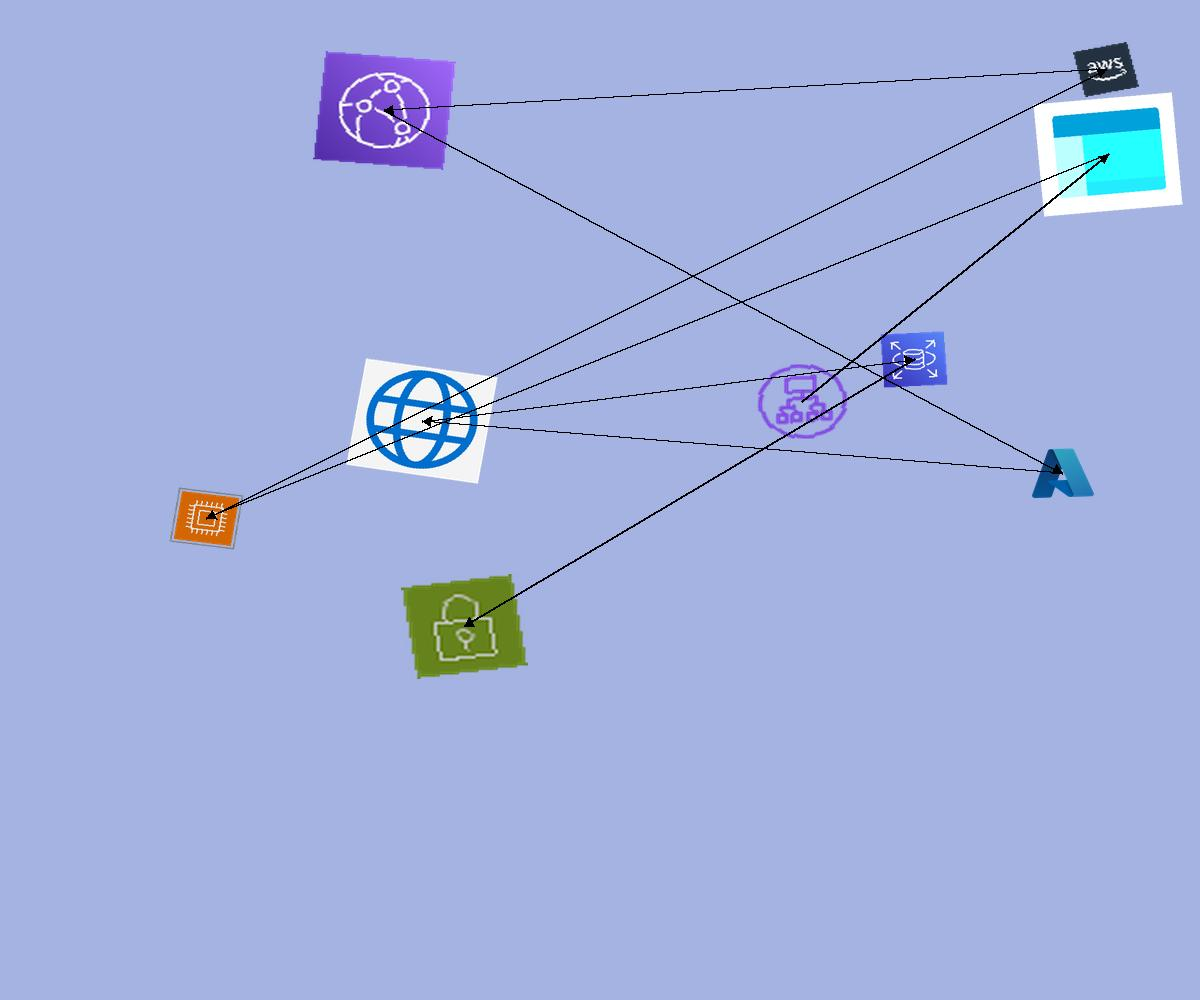AWS-Category_Compute: (169, 487, 244, 550)
AWS-Cloud-logo: (1073, 42, 1139, 97)
AWS-CloudFront: (313, 51, 456, 170)
AWS-Public-subnet: (401, 574, 528, 679)
AWS-RDS: (880, 331, 948, 388)
AWS-Res_Elastic-Load-Balancing_Application-Load-Balancer: (748, 356, 857, 447)
Azure_http: (346, 358, 498, 484)
Azure_management-portal: (1033, 92, 1183, 217)
Azure_services: (1027, 444, 1097, 502)
